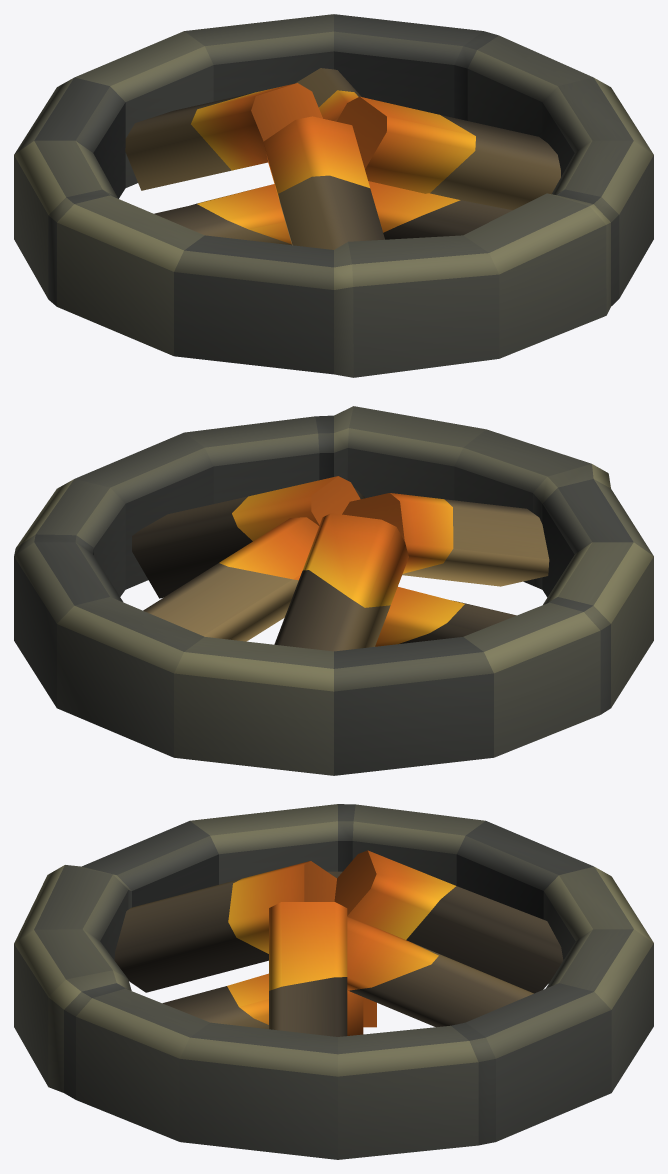
Rendered from fire_pit.fbx.
The picture shows the model from 3 angles, top to bottom: view 1: azimuth 30°, elevation 25°; view 2: azimuth 150°, elevation 25°; view 3: azimuth 270°, elevation 25°; orthographic projection.
Parts seen in each view (by area): view 1: fire_pit; view 2: fire_pit; view 3: fire_pit.
Part boxes in pixels (x1=…): fire_pit: x1=14, y1=14, x2=653, y2=377; fire_pit: x1=14, y1=406, x2=653, y2=775; fire_pit: x1=14, y1=804, x2=653, y2=1159.
Size of the model in its own units: 102 by 26.02 by 103.
